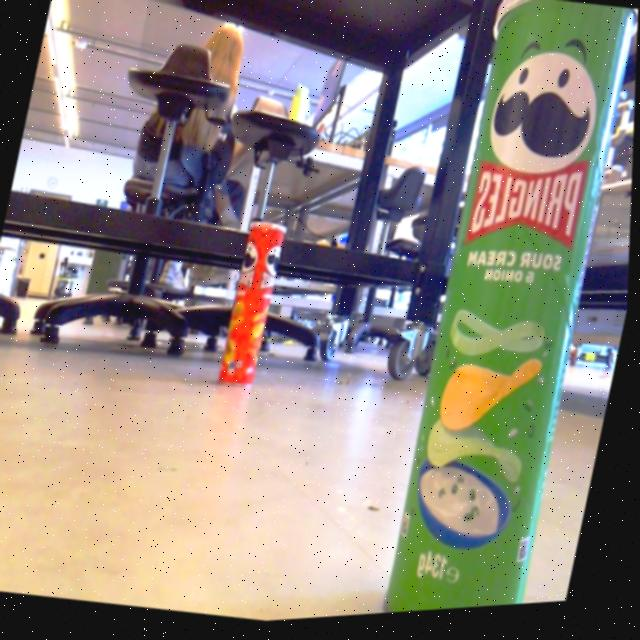greenpringles: (357, 0, 639, 620)
redpringles: (205, 211, 303, 402)
